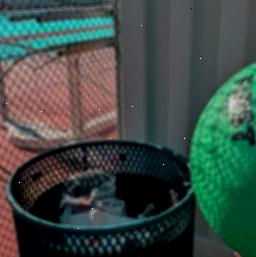algae: (187, 43, 256, 257)
